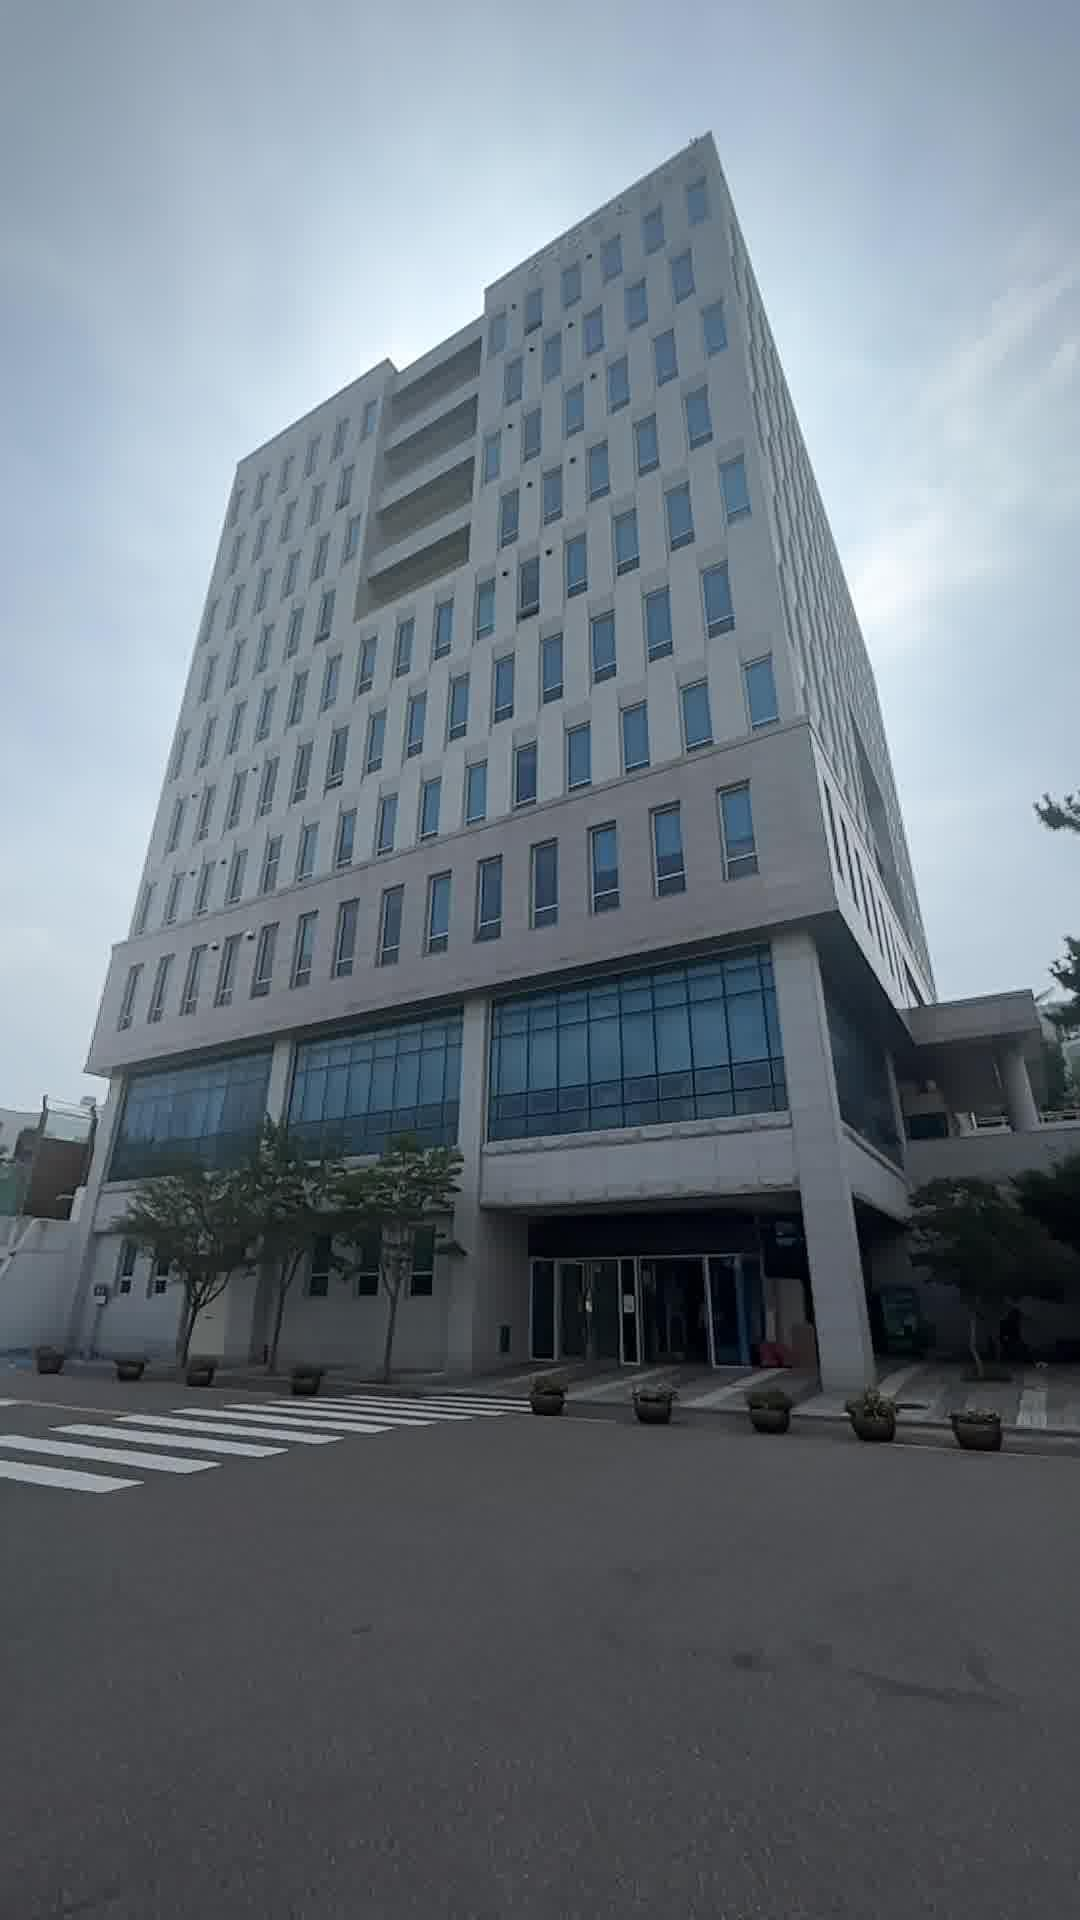building: (120, 131, 971, 1150)
